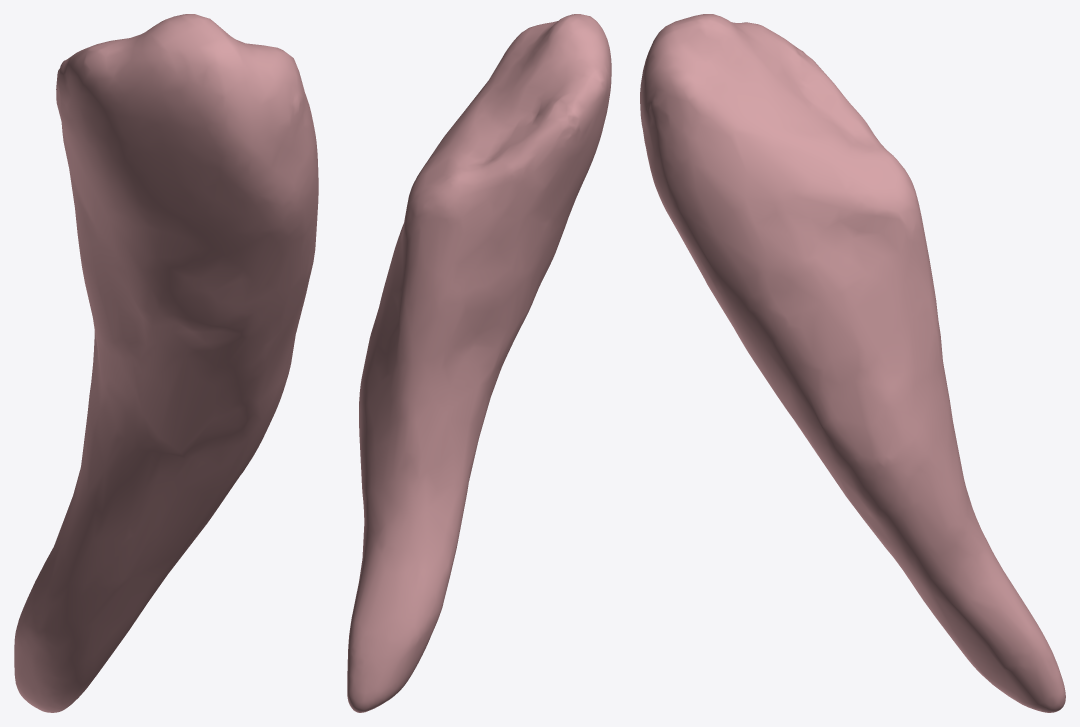
Rendered from fma55686.glb.
3 renders of one model, left to right at view 1: azimuth 30°, elevation 25°; view 2: azimuth 150°, elevation 25°; view 3: azimuth 270°, elevation 25°, orthographic. The views are drawn at different scales.
Parts seen in each view (by area): view 1: FMA55686; view 2: FMA55686; view 3: FMA55686.
Boxes of the visible parts, x1=… form: FMA55686: x1=14, y1=14, x2=318, y2=712; FMA55686: x1=347, y1=14, x2=611, y2=712; FMA55686: x1=640, y1=14, x2=1065, y2=712.
Bounding box in the file's own units: 0.00817 × 0.0253 × 0.0147.
